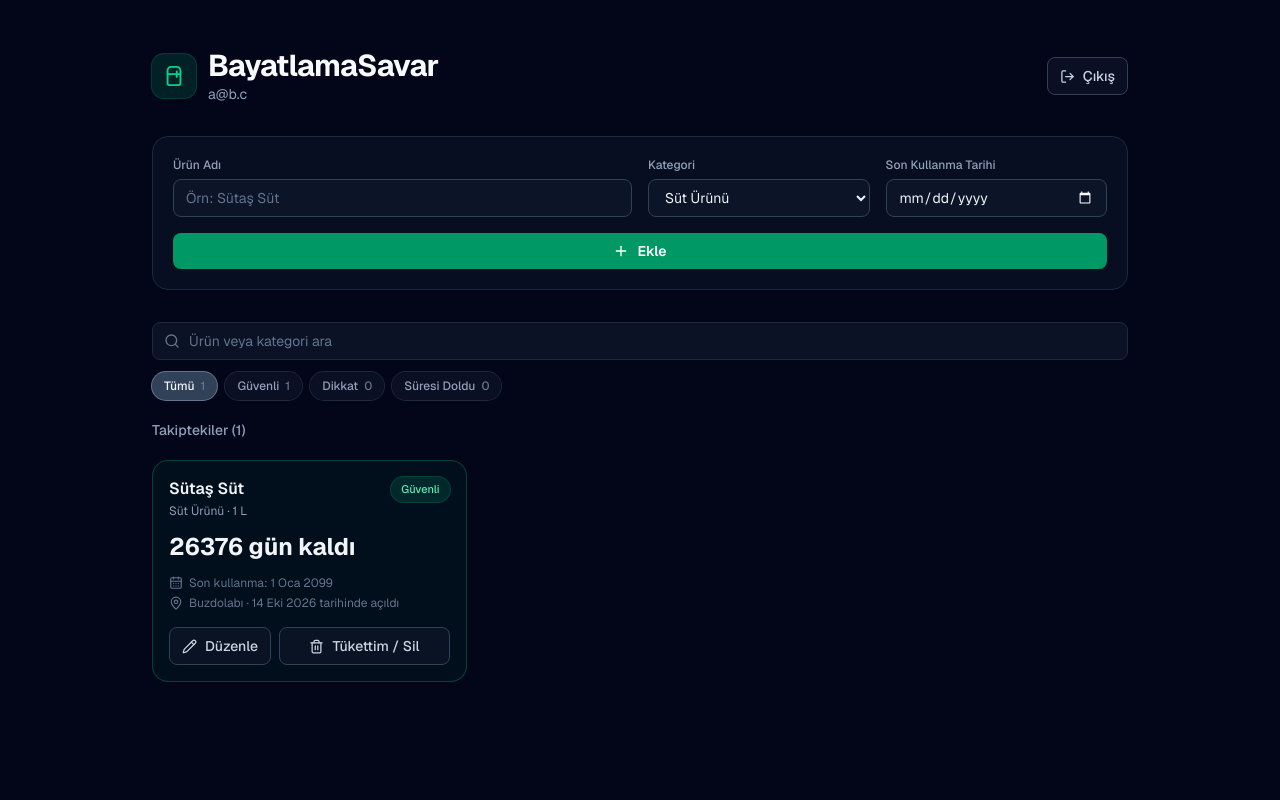
Ana sayfa — bütünleşme › yazma hatası: liste değişmez, hata bildirimi görünür
Expected: the heading "Sütaş Süt" is shown, x1=169 y1=477 x2=247 y2=501
In the field labelled "Ürün Adı": (402, 198) x1=173 y1=179 x2=632 y2=217, type "Kaşar"
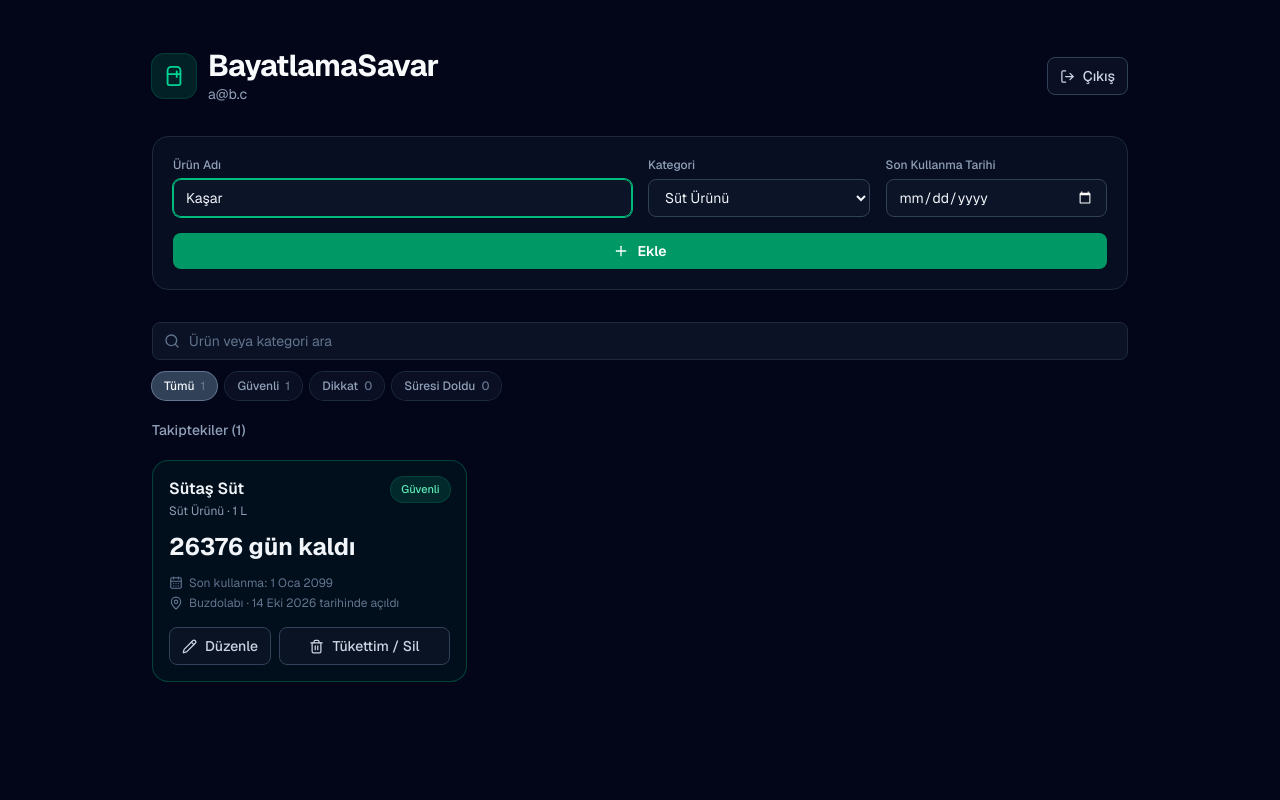
In the date field labelled "Son Kullanma Tarihi": (996, 198) x1=886 y1=179 x2=1107 y2=217, type "2099-01-01"
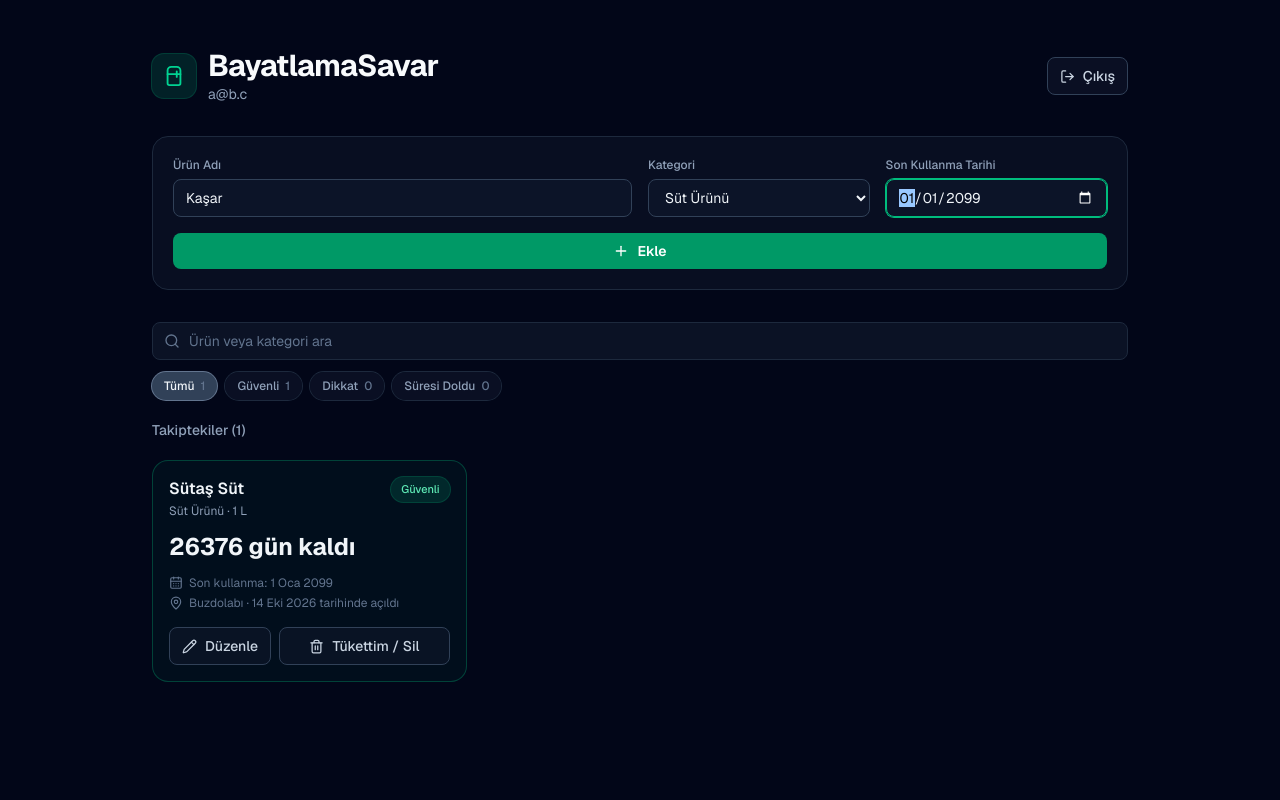
Click the button "Ekle": (640, 251) x1=173 y1=233 x2=1107 y2=269
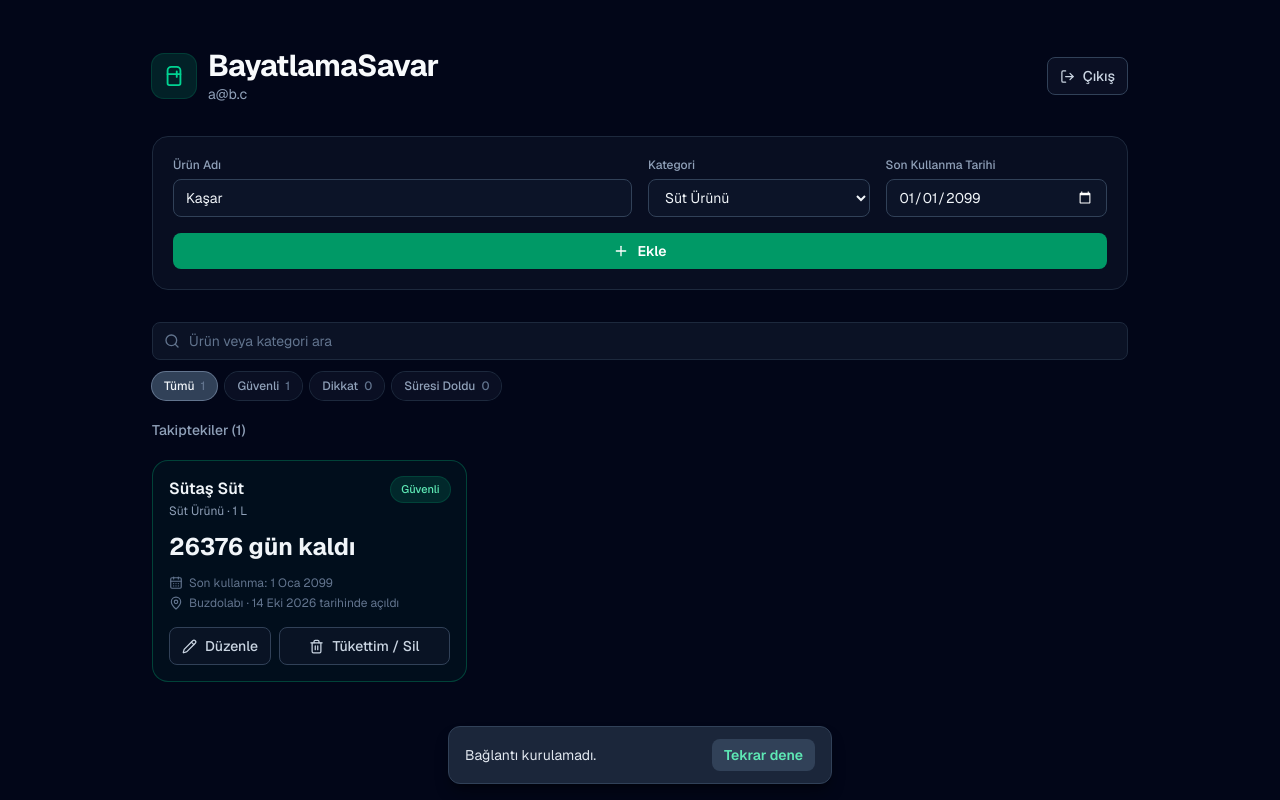
Expected: the heading "Sütaş Süt" is shown, x1=169 y1=477 x2=247 y2=501
Now the text "Bağlantı kurulamadı." is shown, box x1=465 y1=745 x2=596 y2=765
